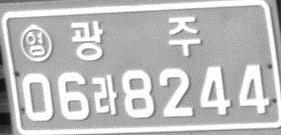0: (21, 72, 54, 122)
2: (158, 67, 193, 117)
4: (199, 65, 231, 114), (237, 64, 269, 113)
6: (57, 71, 90, 120)
8: (121, 69, 155, 118)
광주_D: (69, 16, 201, 61)
라: (90, 74, 118, 115)
영: (19, 25, 51, 63)
